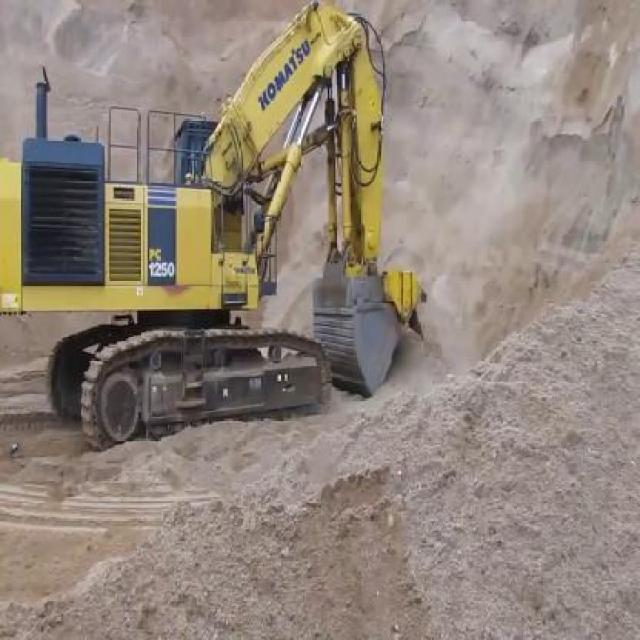Excavator: (0, 0, 428, 454)
